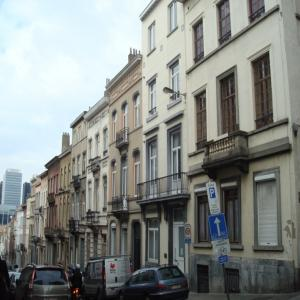Vehicle-registration-plate: (170, 286, 182, 292)
